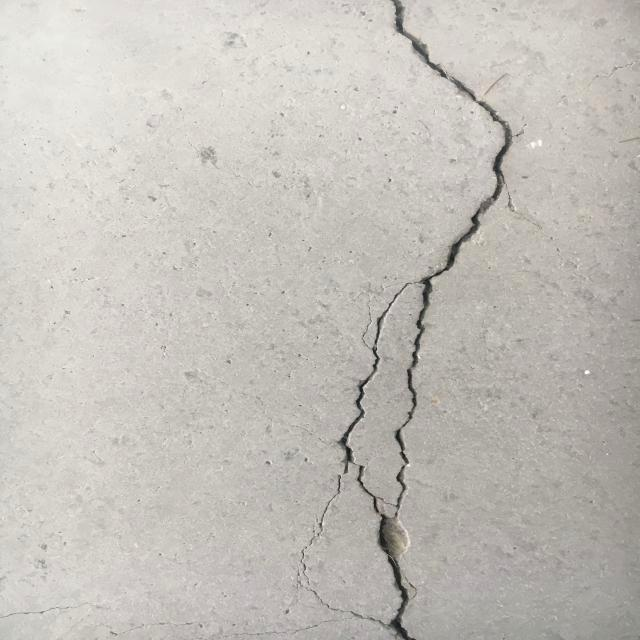SurfaceCrack: (275, 1, 546, 639)
